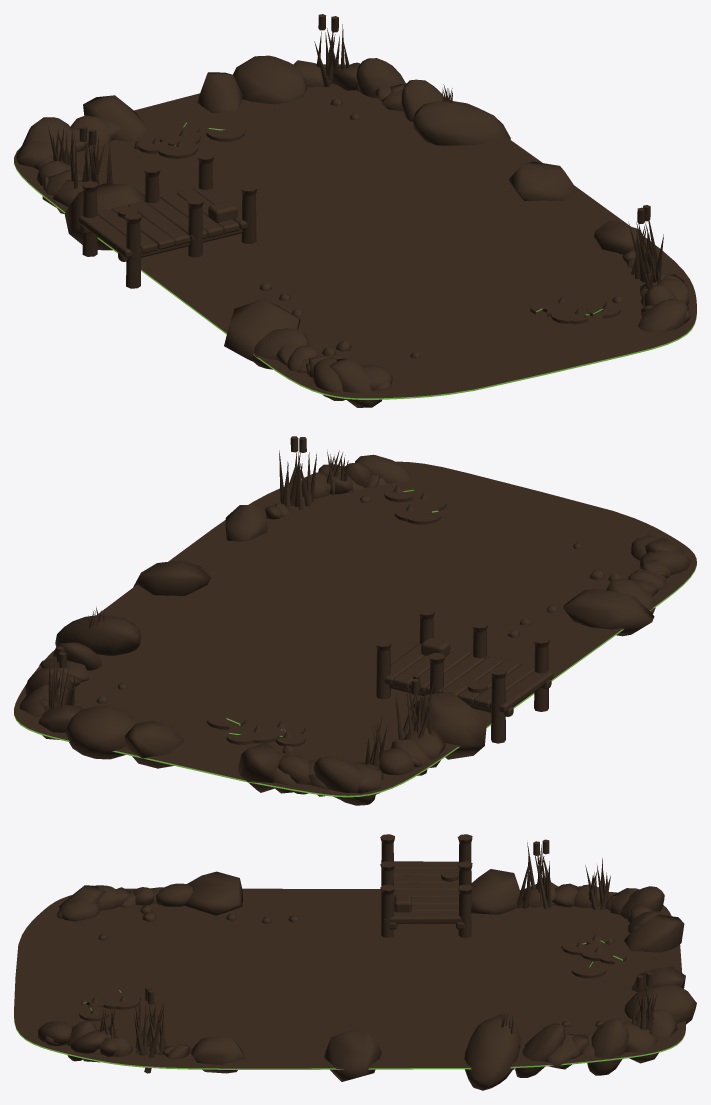
The model's file is painted-pond.glb.
3 renders of one model, top to bottom at view 1: azimuth 30°, elevation 25°; view 2: azimuth 150°, elevation 25°; view 3: azimuth 270°, elevation 25°, orthographic. The views are drawn at different scales.
Parts seen in each view (by area): view 1: painted-pond-outline, painted-pond-kit; view 2: painted-pond-outline, painted-pond-kit; view 3: painted-pond-outline, painted-pond-kit.
Boxes of the visible parts, x1,y1,x2,y2 form: painted-pond-outline: (14,14,696,407); painted-pond-kit: (14,122,696,399); painted-pond-outline: (14,436,696,805); painted-pond-kit: (14,489,696,797); painted-pond-outline: (14,834,696,1090); painted-pond-kit: (14,940,685,1069).
Size of the model in its own units: 6.77 by 1.4 by 10.14.
